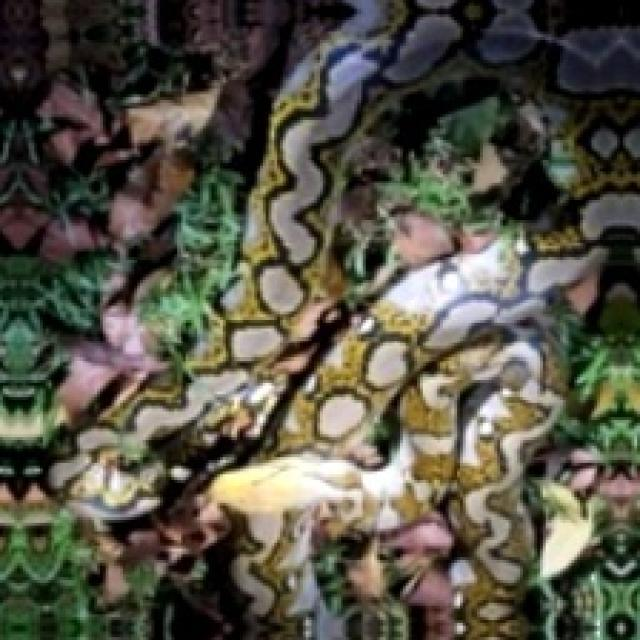reticulated python: (51, 0, 637, 637)
